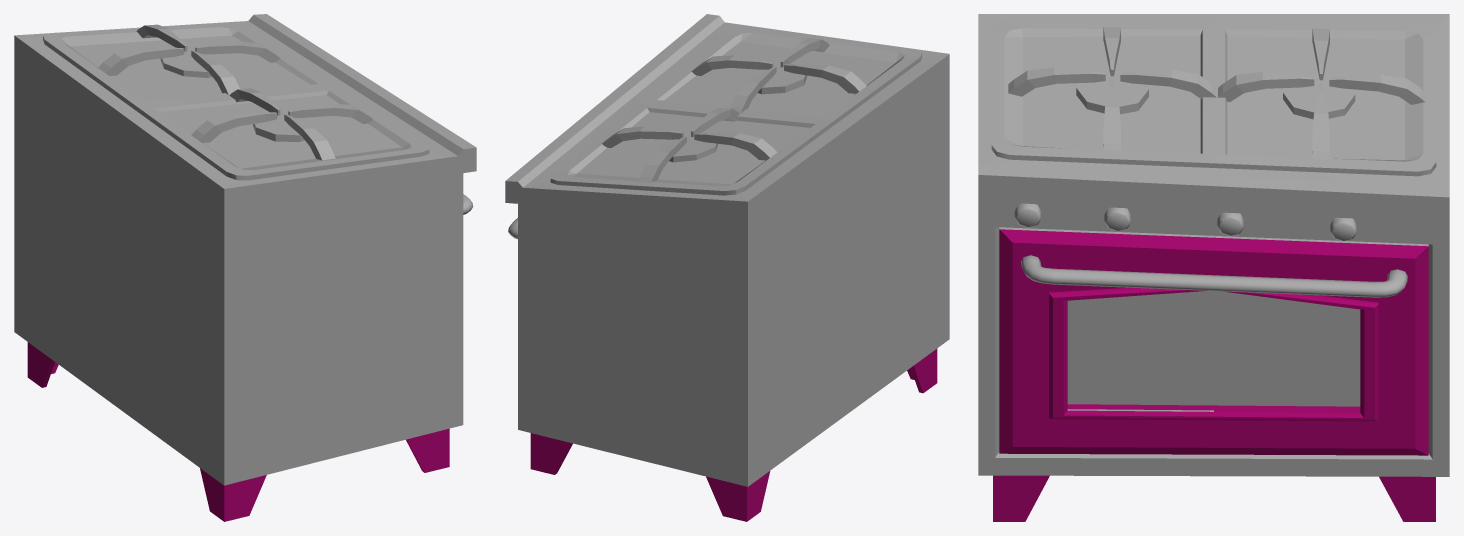
Rendered from stove.fbx.
3 views of the same model, side by side, from view 1: azimuth 30°, elevation 25°; view 2: azimuth 150°, elevation 25°; view 3: azimuth 270°, elevation 25° (orthographic). The views are drawn at different scales.
Visible parts, largest first — view 1: stove, pCube1, pCube2, leg4, pCube3, pCube4, leg1, pCylinder1, leg3, pCylinder2; view 2: stove, pCube1, pCube2, leg3, pCube4, pCube3, leg2, pCylinder1, pCylinder2, leg4; view 3: stove, handle, pCube4, pCube3, leg1, leg2, pCylinder2, pCylinder1, pCube2, pCube1, pCylinder4, pCylinder5 (+2 smaller).
Boxes of the visible parts, x1,y1,x2,y2 form: stove: (14,14,476,485); pCube1: (191,103,373,142); pCube2: (98,41,280,76); leg4: (200,468,266,521); pCube3: (229,88,335,160); pCube4: (136,24,239,95); leg1: (406,428,449,472); pCylinder1: (253,113,314,141); leg3: (27,342,58,387); pCylinder2: (160,51,222,77); stove: (505,14,949,486); pCube1: (691,55,866,93); pCube2: (602,126,777,160); leg3: (706,471,770,521); pCube4: (638,107,739,182); pCube3: (729,38,829,113); leg2: (530,433,572,474); pCylinder1: (747,63,807,94); pCylinder2: (659,132,718,162); leg4: (907,348,937,393); stove: (978,14,1449,476); handle: (1021,255,1407,297); pCube4: (1218,72,1425,104); pCube3: (1008,67,1216,98); leg1: (993,475,1049,521); leg2: (1379,476,1435,521); pCylinder2: (1283,73,1355,119); pCylinder1: (1076,70,1148,114); pCube2: (1312,28,1329,159); pCube1: (1103,27,1120,150); pCylinder4: (1014,203,1041,227); pCylinder5: (1104,207,1131,231).
Size of the model in its own units: 3.19 by 3.86 by 4.17.
